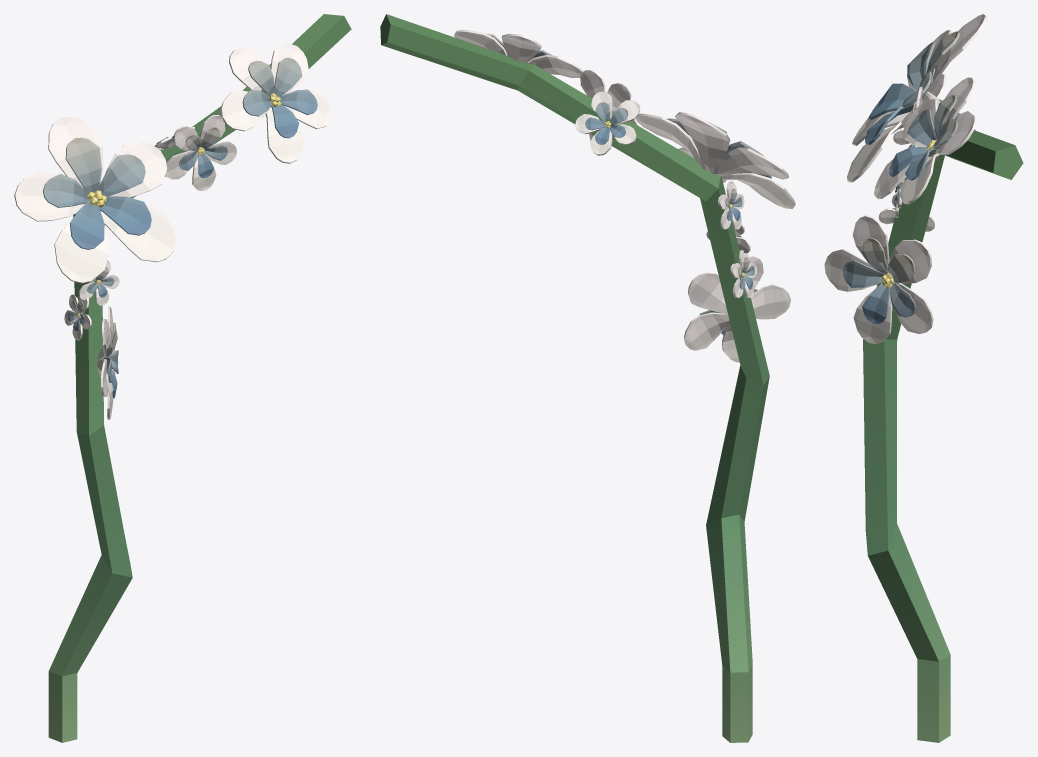
File: UnknownFlowerName02_Blue.fbx
3 views of the same model, side by side, from view 1: azimuth 30°, elevation 25°; view 2: azimuth 150°, elevation 25°; view 3: azimuth 270°, elevation 25° (orthographic). The views are drawn at different scales.
Parts seen in each view (by area): view 1: UnknownFlowerName02_Blue; view 2: UnknownFlowerName02_Blue; view 3: UnknownFlowerName02_Blue.
Part boxes in pixels (x1,y1,x2,y2): UnknownFlowerName02_Blue: [14, 14, 351, 742]; UnknownFlowerName02_Blue: [380, 14, 795, 742]; UnknownFlowerName02_Blue: [824, 14, 1023, 742].
Size of the model in its own units: 35.32 by 59 by 13.83.
